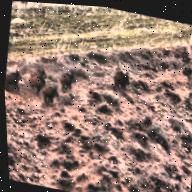boar: (108, 63, 140, 107), (34, 80, 69, 115), (3, 65, 29, 101), (58, 64, 82, 99), (25, 70, 50, 100)
